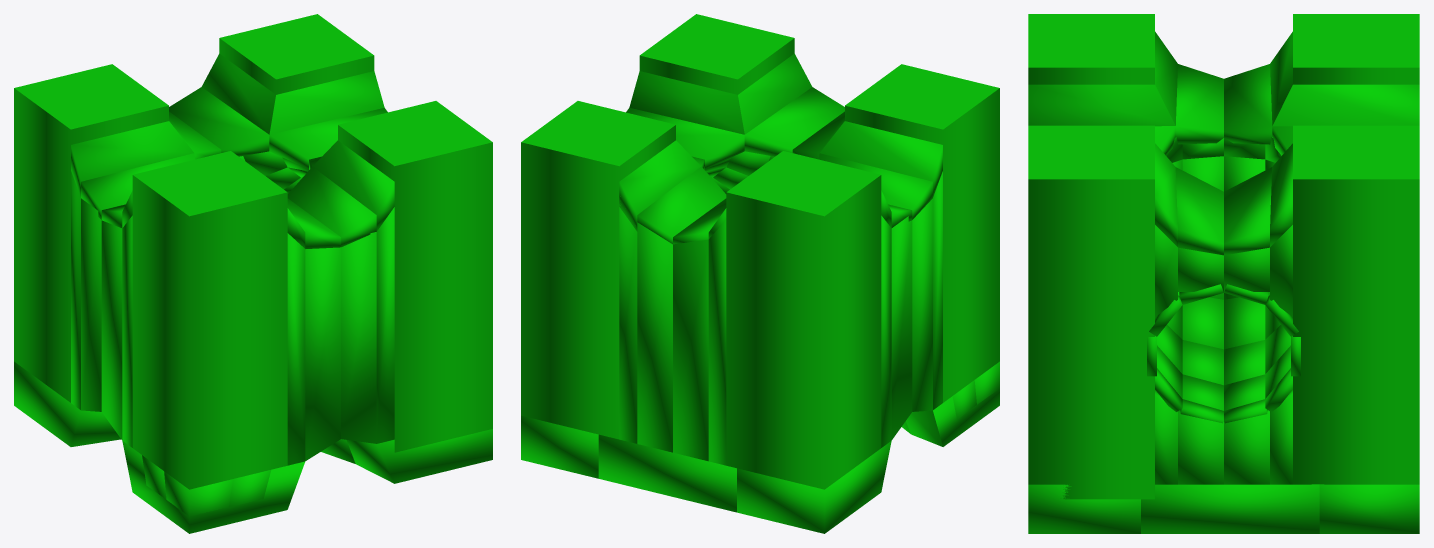
File: UCXKugelbahn.19.fbx
3 renders of one model, left to right at view 1: azimuth 30°, elevation 25°; view 2: azimuth 150°, elevation 25°; view 3: azimuth 270°, elevation 25°, orthographic. The views are drawn at different scales.
Visible parts, largest first — view 1: UCX_Kugelbahn.19_low; view 2: UCX_Kugelbahn.19_low; view 3: UCX_Kugelbahn.19_low.
Part boxes in pixels (x1,y1,x2,y2): UCX_Kugelbahn.19_low: (14,14,492,533); UCX_Kugelbahn.19_low: (521,14,999,533); UCX_Kugelbahn.19_low: (1028,14,1419,533).
Size of the model in its own units: 0.05 by 0.05 by 0.05.
